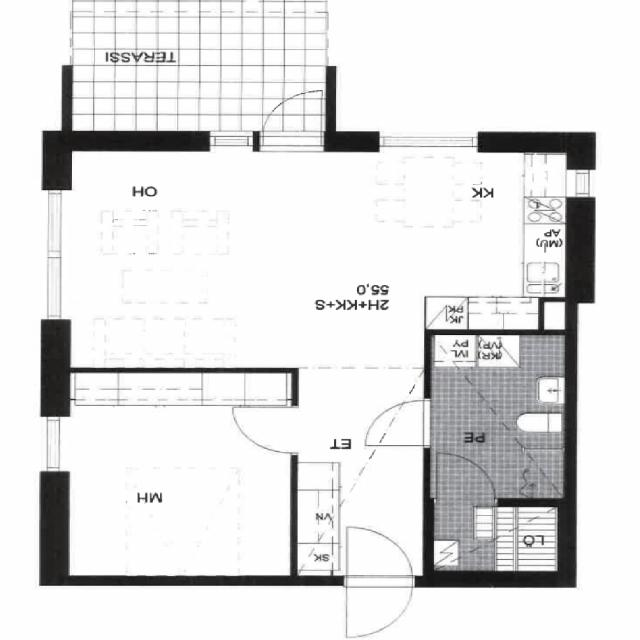door: (346, 574, 414, 637), (346, 522, 414, 585), (261, 84, 322, 151), (436, 450, 496, 506), (363, 398, 431, 444), (230, 407, 298, 452)
